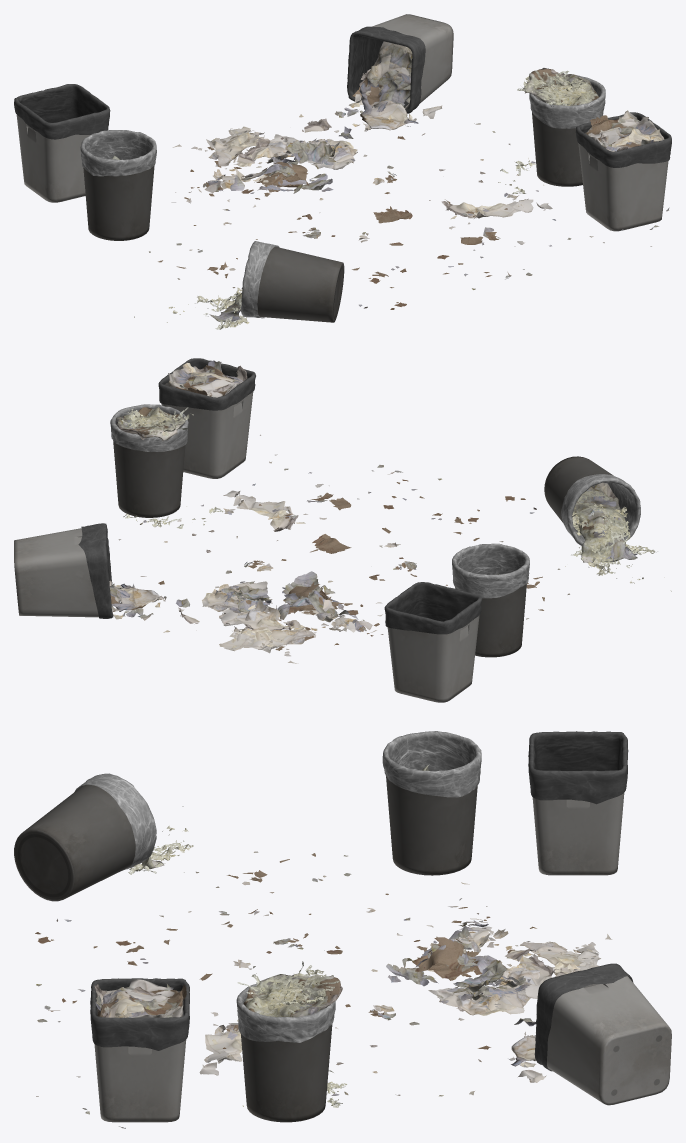
File: trash.glb
The picture shows the model from 3 angles, top to bottom: view 1: azimuth 30°, elevation 25°; view 2: azimuth 150°, elevation 25°; view 3: azimuth 270°, elevation 25°; orthographic projection. The views are drawn at different scales.
Parts seen in each view (by area): view 1: Mesher001; view 2: Mesher001; view 3: Mesher001.
Boxes of the visible parts, x1,y1,x2,y2 form: Mesher001: (14,14,671,329); Mesher001: (14,358,671,702); Mesher001: (14,731,671,1128).
Bounding box in the file's own units: 2.62 × 0.4478 × 2.25.
Materials: 1 (1 with a texture image).
